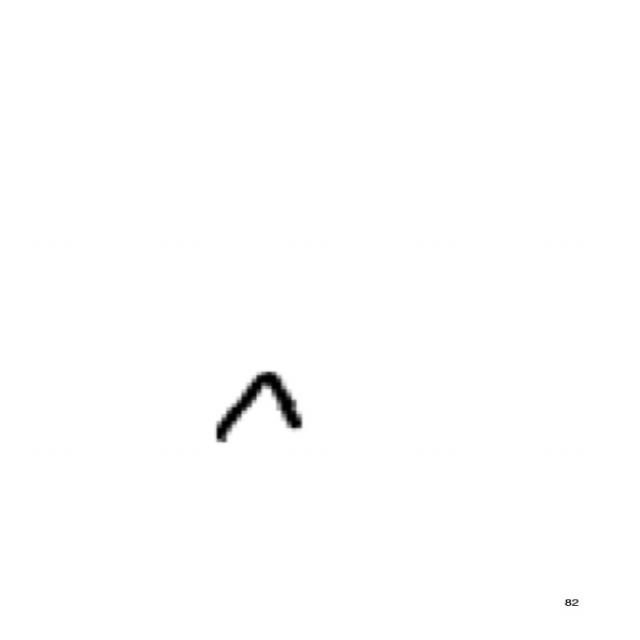8 -eight-: (194, 356, 320, 457)
